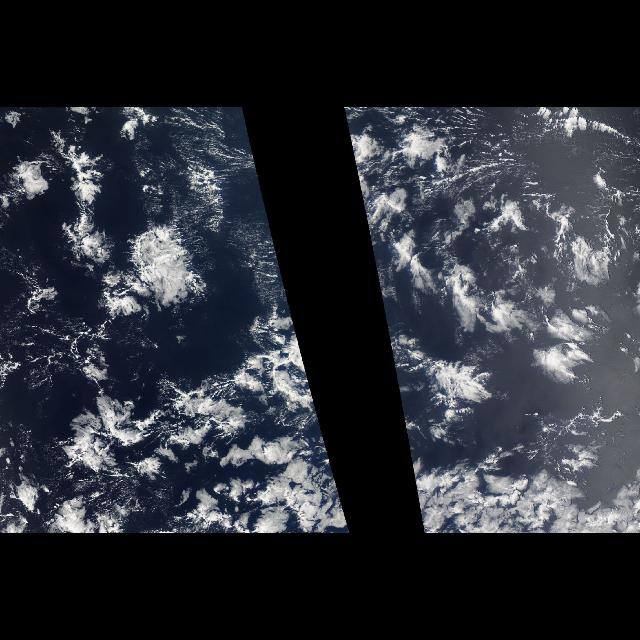Flower: (11, 116, 350, 526), (388, 118, 640, 450)
